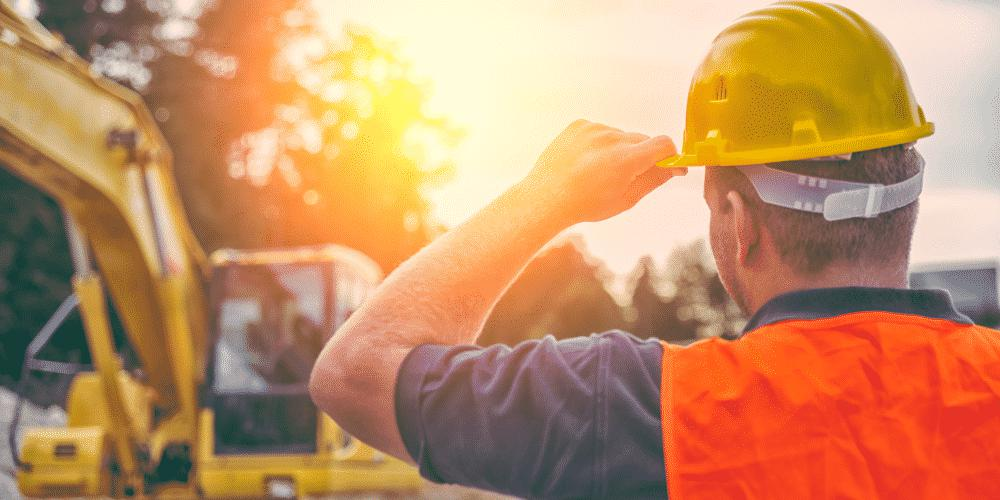hardhat: (643, 5, 937, 169)
worker: (308, 1, 997, 500)
